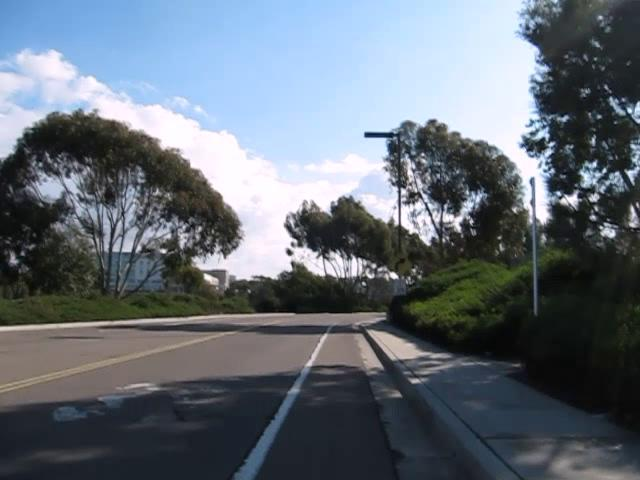speedLimit35: (392, 278, 407, 295)
